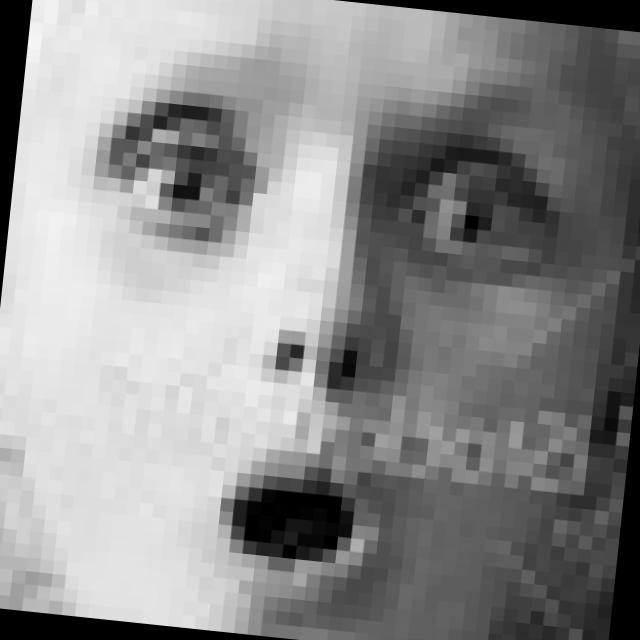surprise: (44, 78, 566, 632)
